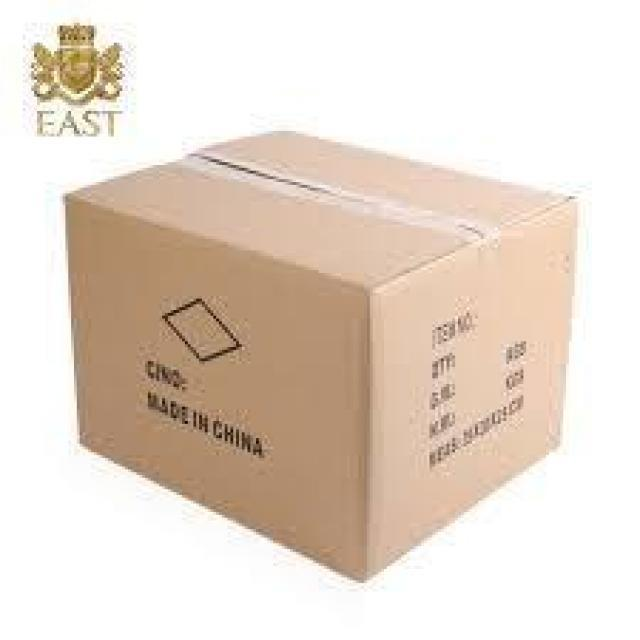box: (60, 128, 577, 583)
